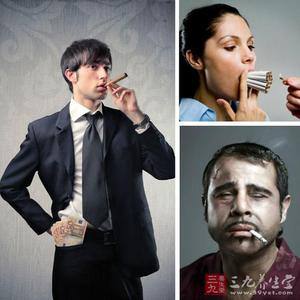cigarette: (247, 72, 277, 95), (103, 72, 129, 88), (251, 231, 270, 245)
